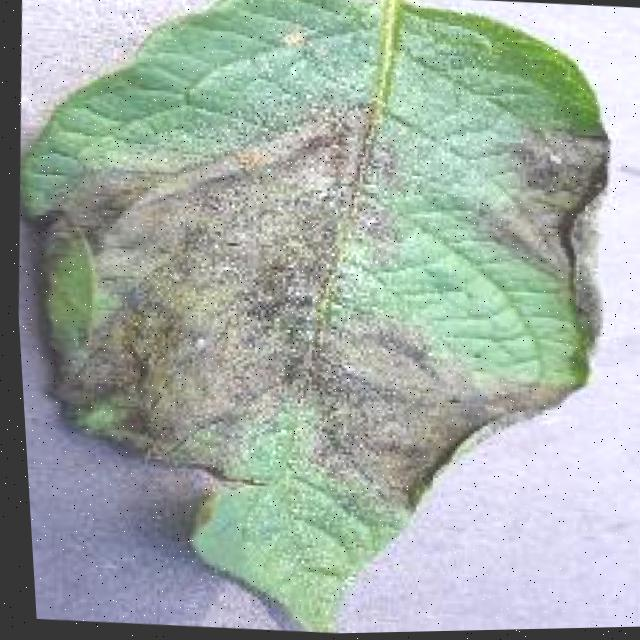Late_blight: (9, 87, 640, 541)
